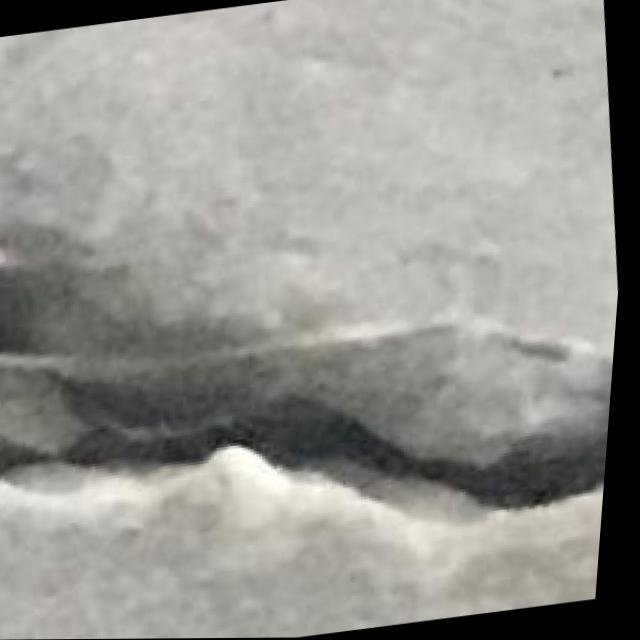Crack: (0, 162, 630, 594)
